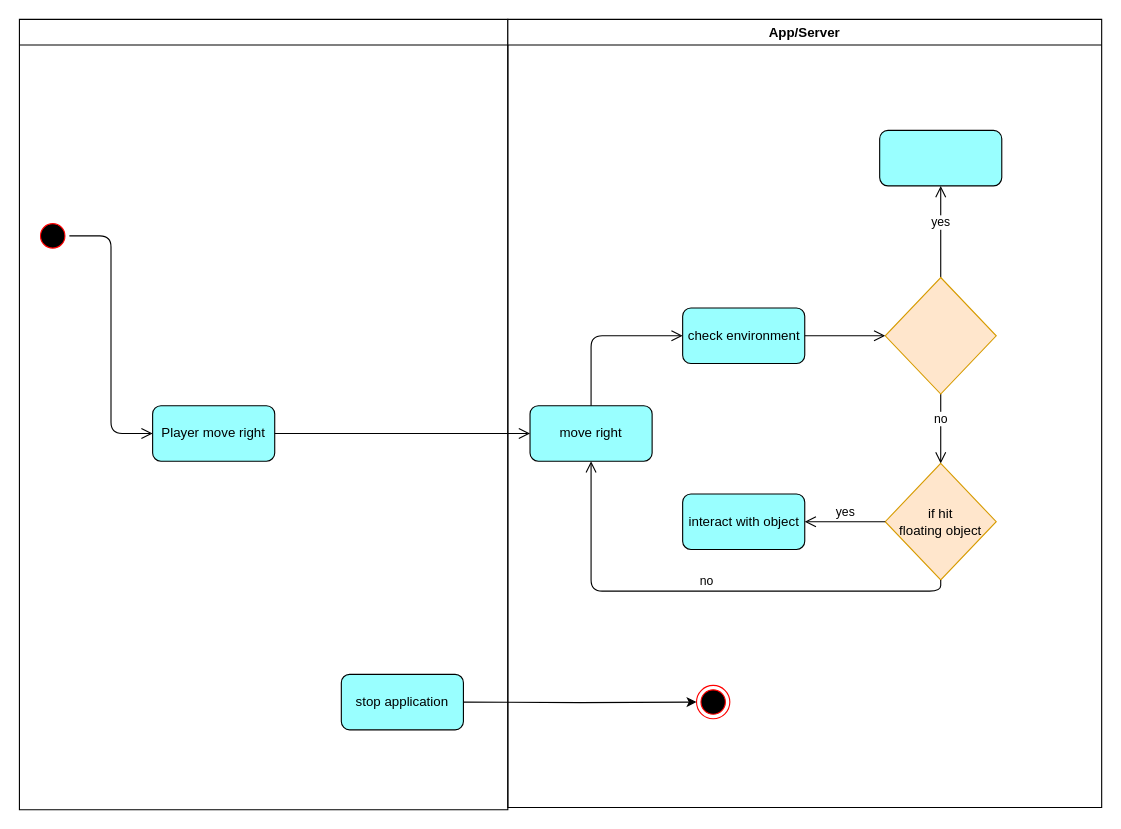
Image size: 1121x829. Some labels were removed from this diagram. Each missing label, with the box of its shape:
if hit firm object: (884, 276, 996, 394)
stop movement: (879, 129, 1002, 186)
User: (18, 18, 508, 810)
